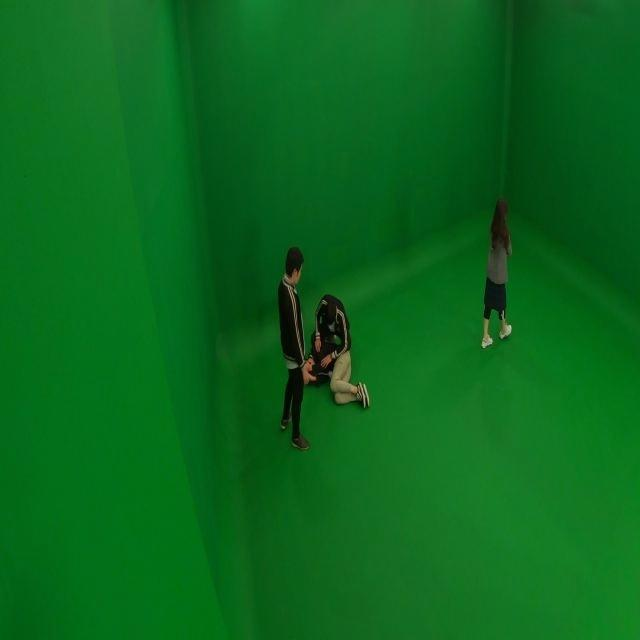fight: (298, 289, 374, 414)
non-fight: (276, 246, 315, 456), (477, 202, 514, 347)
